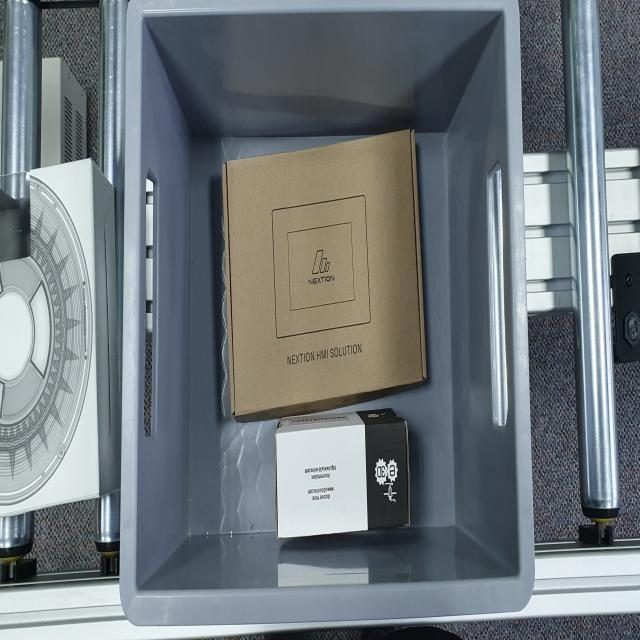box: (220, 128, 428, 404), (274, 415, 412, 538)
